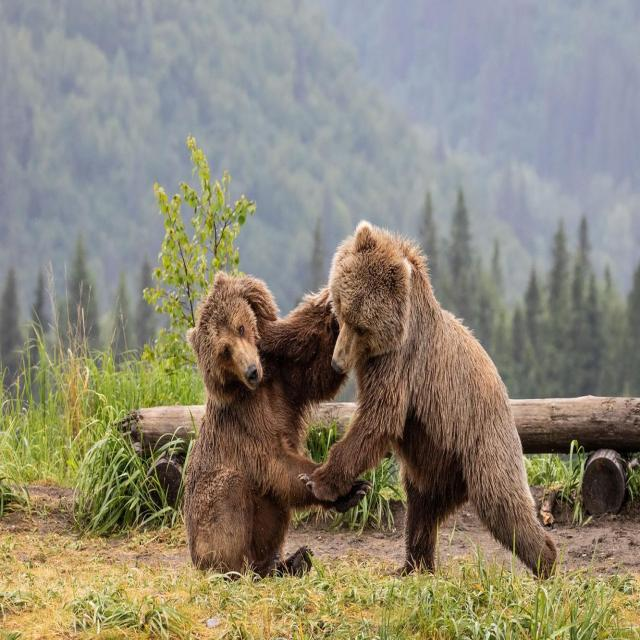Bear: (304, 222, 559, 583), (184, 274, 378, 579)
